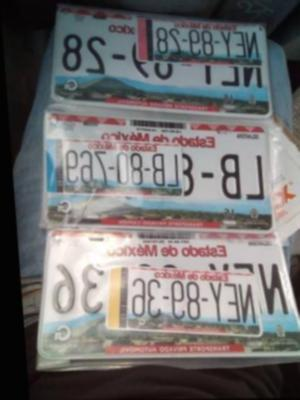License_Plate: (25, 237, 300, 370), (27, 116, 291, 235), (33, 13, 280, 113)
